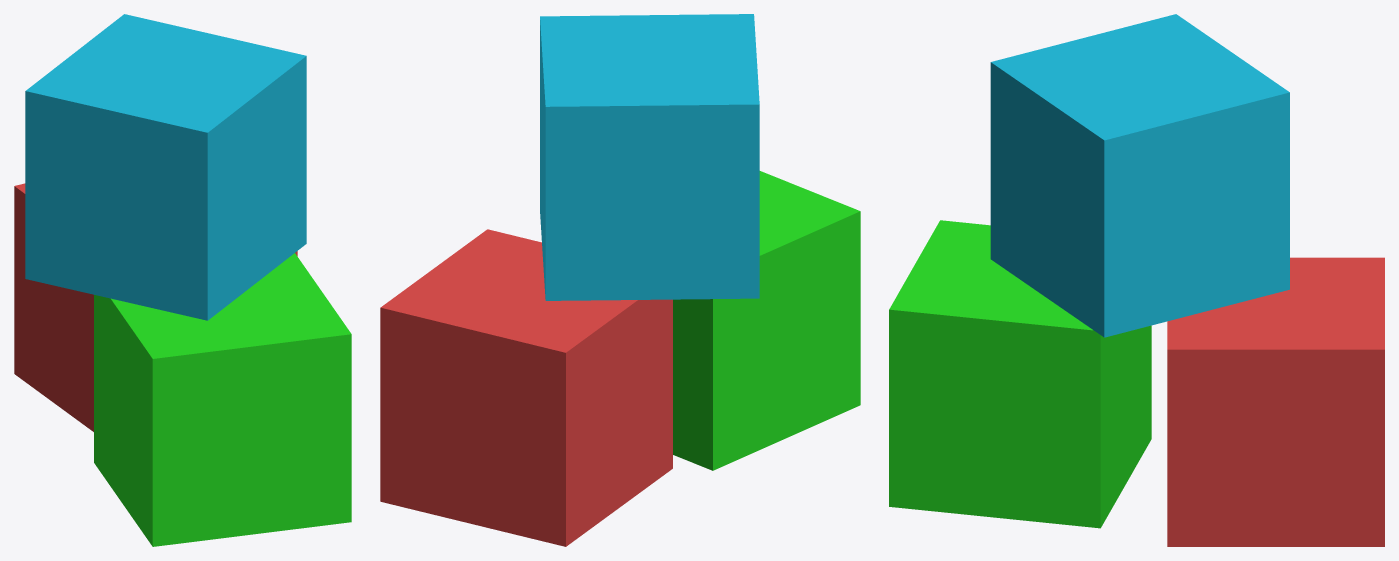
The model's file is cubes.glb.
The picture shows the model from 3 angles, left to right: view 1: azimuth 30°, elevation 25°; view 2: azimuth 150°, elevation 25°; view 3: azimuth 270°, elevation 25°; orthographic projection. The views are drawn at different scales.
Visible parts, largest first — view 1: Cube.002, Cube, Cube.001; view 2: Cube.001, Cube.002, Cube; view 3: Cube.002, Cube, Cube.001.
Boxes of the visible parts, <box> form: Cube.002: <box>25,14,306,320</box>; Cube: <box>94,253,351,546</box>; Cube.001: <box>14,183,297,431</box>; Cube.001: <box>380,229,672,546</box>; Cube.002: <box>540,14,759,300</box>; Cube: <box>673,171,860,470</box>; Cube.002: <box>990,14,1289,337</box>; Cube: <box>889,220,1151,528</box>; Cube.001: <box>1167,257,1384,546</box>.
Size of the model in its own units: 2.98 by 4.01 by 4.56.
